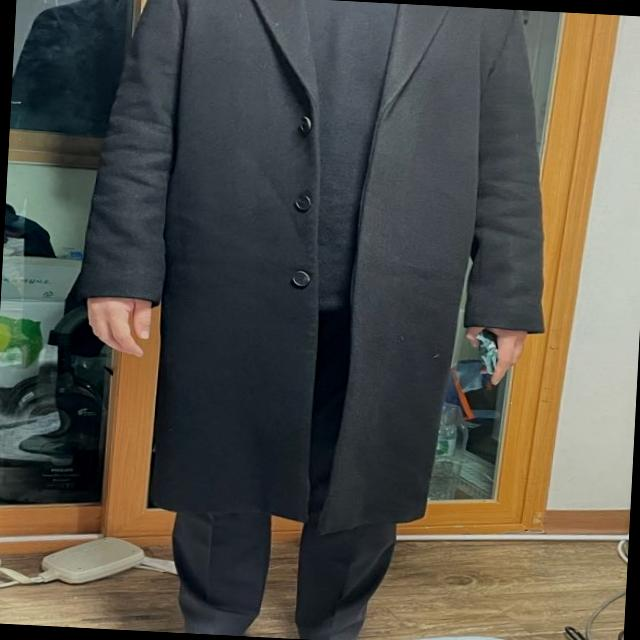coat: (66, 0, 559, 544)
slacks: (168, 295, 408, 640)
